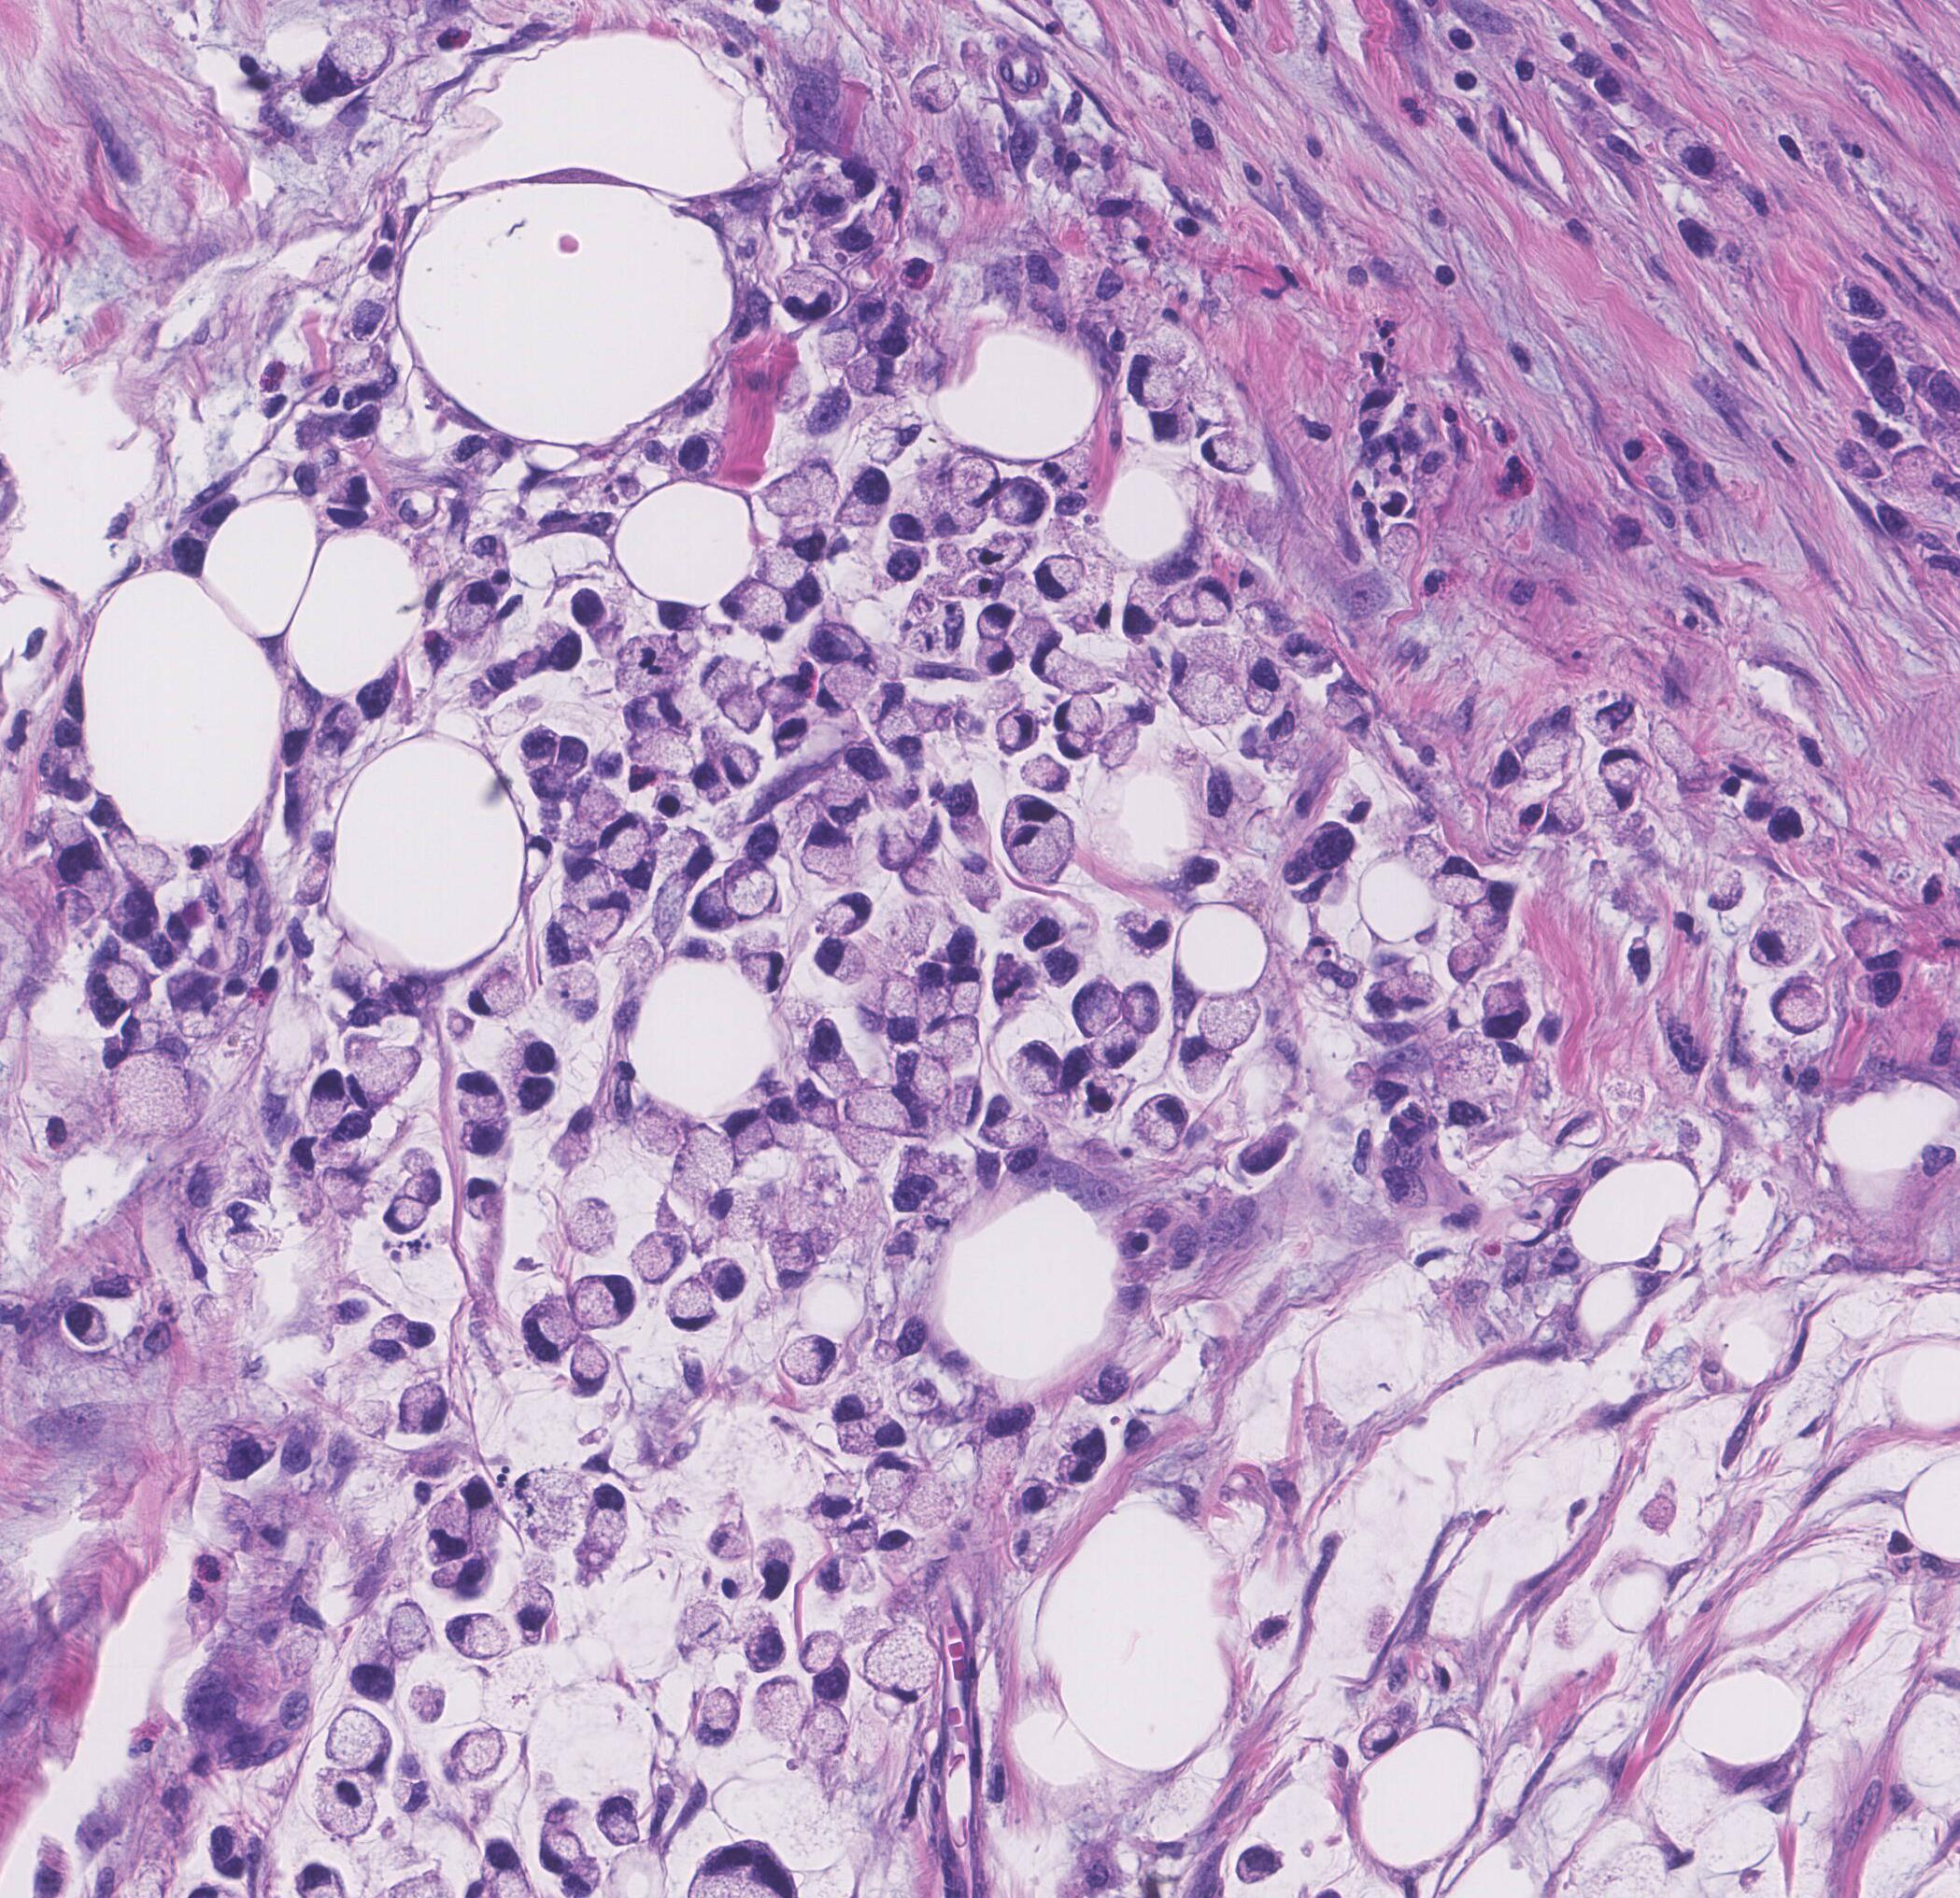ring_cell_cancer: (112, 1048, 205, 1139), (1178, 632, 1251, 724), (1006, 792, 1073, 882), (318, 24, 404, 89), (868, 1636, 947, 1699), (329, 1707, 397, 1779), (318, 1770, 380, 1847), (1027, 644, 1122, 693), (198, 1424, 280, 1480), (1757, 899, 1820, 971), (612, 637, 688, 694), (724, 855, 784, 925), (1523, 712, 1578, 785), (803, 820, 864, 887), (728, 584, 793, 645), (903, 1149, 964, 1214), (1179, 1029, 1237, 1095), (805, 1015, 857, 1086), (726, 857, 784, 922), (1845, 917, 1909, 974), (586, 1482, 632, 1562), (1206, 425, 1267, 485), (840, 465, 894, 532), (686, 1120, 739, 1188), (467, 960, 527, 1020), (171, 969, 229, 1030), (1204, 988, 1262, 1050), (1265, 719, 1321, 782), (805, 616, 875, 665), (444, 1735, 514, 1784), (347, 1053, 422, 1099), (632, 1097, 684, 1162), (633, 728, 698, 780), (572, 1280, 639, 1331), (1675, 135, 1741, 185), (54, 815, 100, 889), (868, 406, 926, 464), (569, 588, 626, 645), (1771, 981, 1832, 1036), (527, 1296, 581, 1357), (878, 974, 926, 1044), (779, 266, 842, 318), (987, 1097, 1052, 1148), (761, 1674, 807, 1746), (1470, 885, 1526, 943), (843, 1086, 912, 1134), (1010, 901, 1073, 952), (900, 1055, 955, 1111), (98, 959, 156, 1013), (779, 1335, 838, 1387), (563, 1198, 616, 1258), (630, 1232, 689, 1284), (927, 1015, 989, 1065), (535, 1828, 597, 1879), (812, 229, 885, 271), (359, 1630, 402, 1700), (660, 829, 716, 883), (1011, 1039, 1064, 1097), (551, 967, 602, 1027), (915, 957, 957, 1029), (1134, 1099, 1195, 1148), (959, 848, 1003, 917), (812, 666, 877, 712), (754, 541, 808, 595), (1432, 855, 1489, 906), (721, 1109, 779, 1160), (448, 583, 497, 642), (1239, 1125, 1298, 1174), (817, 892, 878, 939), (1053, 691, 1106, 745), (821, 771, 877, 822), (1073, 974, 1124, 1030), (327, 1113, 378, 1169), (772, 1235, 823, 1291), (868, 1452, 915, 1511), (1017, 1478, 1076, 1525), (978, 1408, 1038, 1455), (945, 791, 992, 850), (994, 953, 1041, 1013), (387, 1599, 432, 1660), (1129, 359, 1178, 415), (597, 822, 655, 869), (1307, 829, 1355, 887), (513, 1583, 558, 1643), (567, 854, 611, 915), (595, 1793, 646, 1846), (1325, 689, 1379, 738), (1482, 983, 1529, 1039), (287, 1141, 324, 1212), (816, 939, 873, 985), (808, 1704, 854, 1762), (444, 1618, 509, 1658), (670, 1279, 714, 1338), (914, 63, 964, 114), (948, 455, 999, 506), (399, 1389, 450, 1440), (534, 623, 586, 672), (1286, 626, 1335, 679), (555, 1111, 597, 1172), (563, 1340, 611, 1394), (847, 1420, 914, 1459), (446, 434, 502, 479), (1249, 654, 1290, 717), (548, 903, 588, 966), (320, 1165, 369, 1216), (996, 481, 1048, 528), (1034, 556, 1087, 604), (819, 317, 864, 371), (1585, 694, 1640, 740), (1120, 910, 1174, 955), (1843, 437, 1888, 492), (310, 1067, 352, 1125), (1601, 745, 1650, 794), (686, 1604, 735, 1653), (679, 432, 730, 479), (320, 705, 360, 764), (567, 777, 619, 822), (878, 178, 914, 245), (63, 1301, 110, 1350), (464, 1065, 508, 1118), (1013, 827, 1066, 871), (880, 1529, 919, 1588), (432, 1499, 471, 1559), (1039, 451, 1094, 493), (800, 460, 840, 516), (702, 1686, 742, 1742), (849, 352, 896, 399), (721, 689, 766, 738), (1423, 448, 1461, 506), (696, 656, 747, 700), (761, 471, 812, 514), (749, 1613, 791, 1665), (632, 694, 688, 733), (1398, 836, 1446, 882), (787, 520, 833, 567), (807, 175, 850, 224), (1193, 579, 1237, 628), (1157, 402, 1199, 453), (1127, 581, 1164, 638), (1389, 973, 1442, 1013), (744, 955, 796, 995), (1741, 778, 1782, 831), (378, 1314, 441, 1347), (655, 598, 709, 637), (763, 672, 808, 717), (812, 1662, 857, 1707), (1358, 1721, 1405, 1765), (1085, 1069, 1127, 1118), (971, 535, 1025, 572), (1097, 1025, 1144, 1067), (719, 745, 768, 785), (397, 1165, 448, 1204), (933, 500, 985, 537), (1124, 983, 1160, 1036), (901, 861, 954, 897), (516, 1036, 560, 1079), (1069, 1419, 1113, 1462), (885, 712, 927, 757), (821, 1473, 856, 1527), (950, 966, 989, 1015), (513, 1071, 555, 1114), (816, 1553, 857, 1597), (889, 1225, 919, 1286), (1165, 588, 1204, 635), (996, 714, 1043, 752), (973, 638, 1020, 677), (756, 1545, 794, 1592), (1024, 757, 1074, 792), (875, 824, 915, 868), (982, 597, 1020, 642), (1446, 945, 1491, 983), (903, 812, 948, 850), (905, 1371, 943, 1417), (709, 1522, 754, 1560), (1384, 1169, 1430, 1207), (1087, 1370, 1134, 1406), (837, 1384, 880, 1422), (465, 534, 509, 572), (803, 1078, 838, 1125), (294, 861, 329, 908), (682, 931, 726, 967), (1235, 1847, 1281, 1882), (868, 684, 907, 724), (520, 728, 558, 768), (619, 855, 658, 896), (467, 1177, 504, 1219), (530, 768, 574, 803), (563, 817, 602, 855), (334, 474, 376, 509), (383, 1198, 427, 1232), (1711, 868, 1743, 913), (366, 1336, 406, 1371), (798, 1634, 838, 1669), (775, 712, 810, 752), (339, 408, 383, 439), (1547, 799, 1585, 834), (555, 738, 590, 775), (843, 1520, 878, 1555), (1389, 525, 1426, 558), (520, 644, 549, 684)
